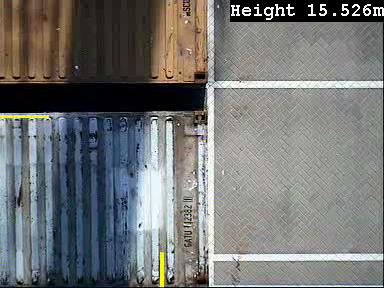groundmarker_2: (142, 177, 239, 246)
